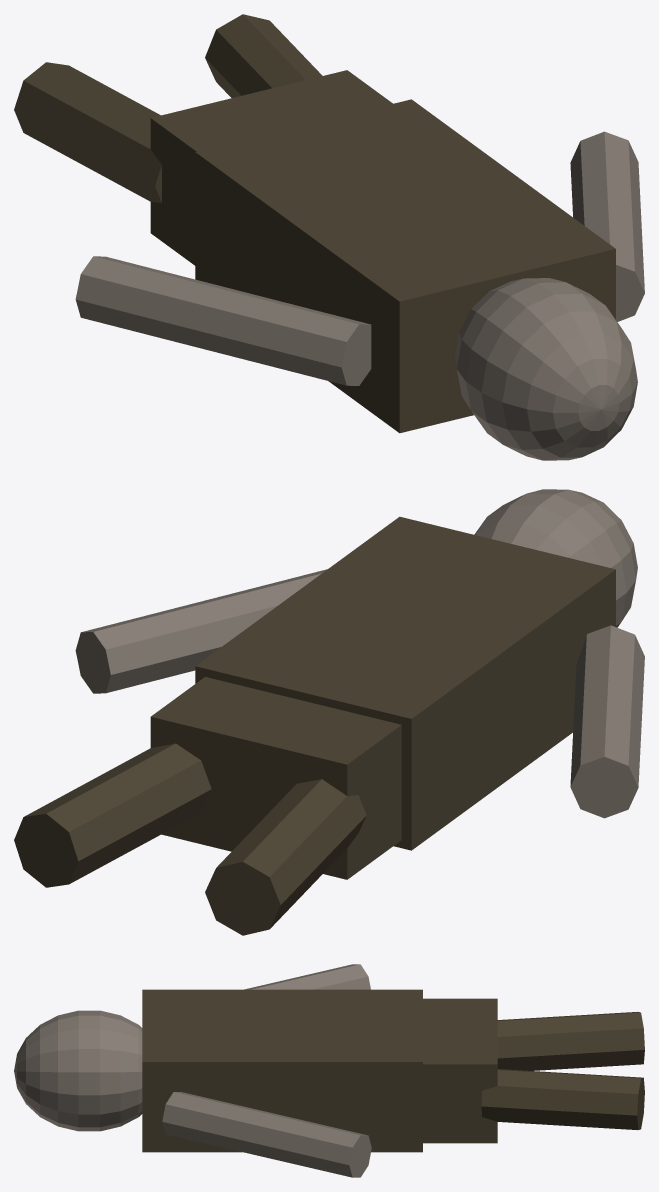
Rendered from enemy_normal.obj.
The picture shows the model from 3 angles, top to bottom: view 1: azimuth 30°, elevation 25°; view 2: azimuth 150°, elevation 25°; view 3: azimuth 270°, elevation 25°; orthographic projection. The views are drawn at different scales.
Bounding box in the file's own units: 1.43 × 0.392 × 2.02.
